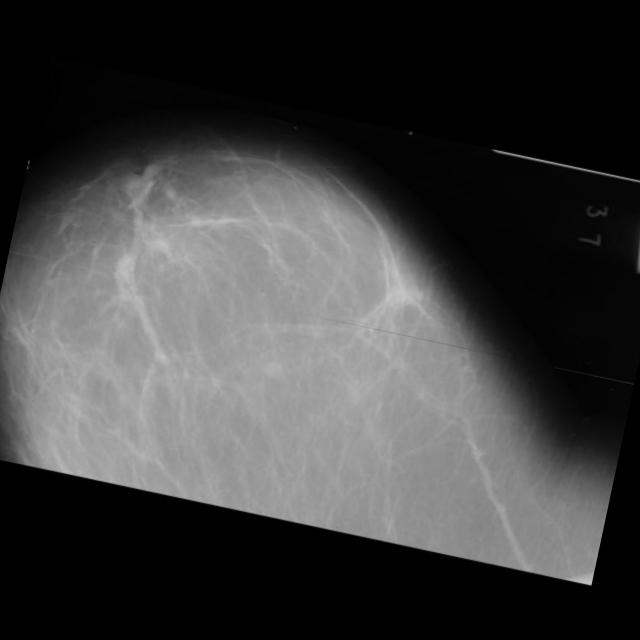MISC: (95, 246, 154, 304)
